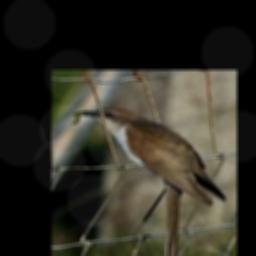Cuckoo: (73, 107, 226, 256)
